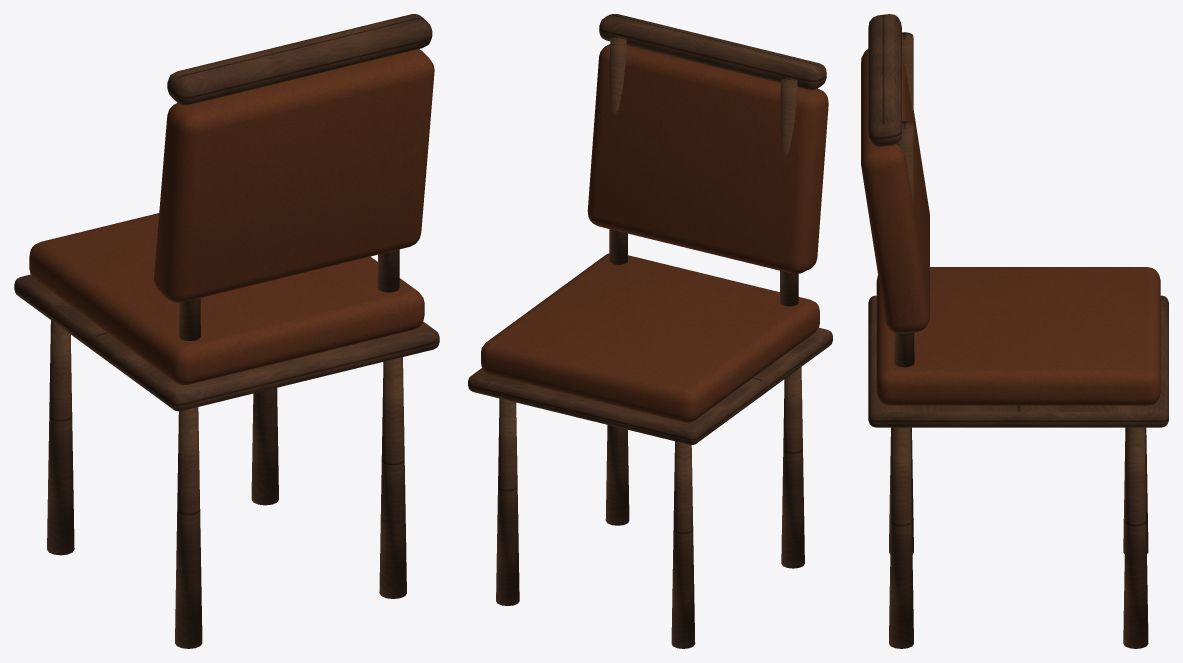
File: dining_chair_0.glb
3 views of the same model, side by side, from view 1: azimuth 30°, elevation 25°; view 2: azimuth 150°, elevation 25°; view 3: azimuth 270°, elevation 25° (orthographic). The views are drawn at different scales.
Parts seen in each view (by area): view 1: dining_chair_0; view 2: dining_chair_0; view 3: dining_chair_0.
Boxes of the visible parts, left/top/right/bottom form: dining_chair_0: left=14, top=14, right=439, bottom=648; dining_chair_0: left=468, top=14, right=832, bottom=648; dining_chair_0: left=861, top=14, right=1168, bottom=648.
Size of the model in its own units: 0.47 by 0.9736 by 0.5122.
Materials: 2 (2 with a texture image).
